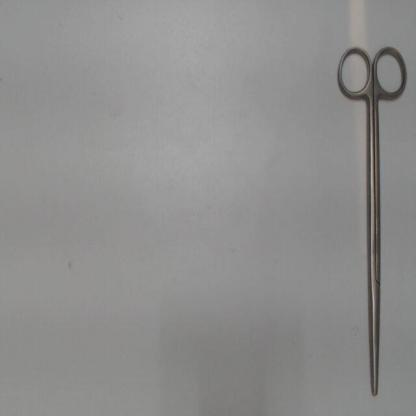9 Metzenbaum Scissors: (333, 41, 411, 401)
